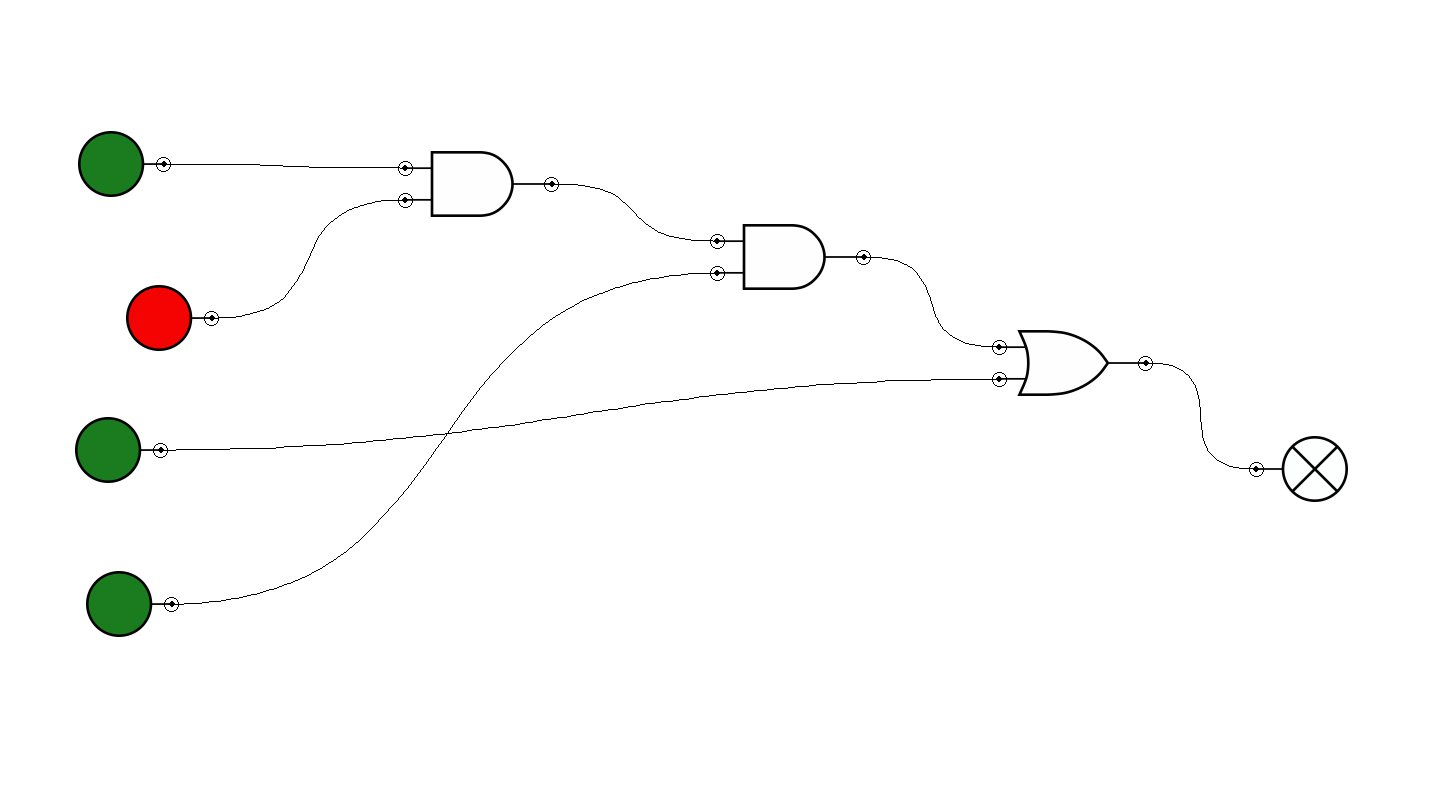and: (710, 224, 871, 290), (398, 151, 559, 217)
bulb: (1249, 436, 1348, 502)
or: (992, 330, 1153, 396)
switch_False: (126, 285, 219, 351)
switch_True: (78, 131, 171, 197), (75, 417, 168, 483), (86, 571, 179, 637)
